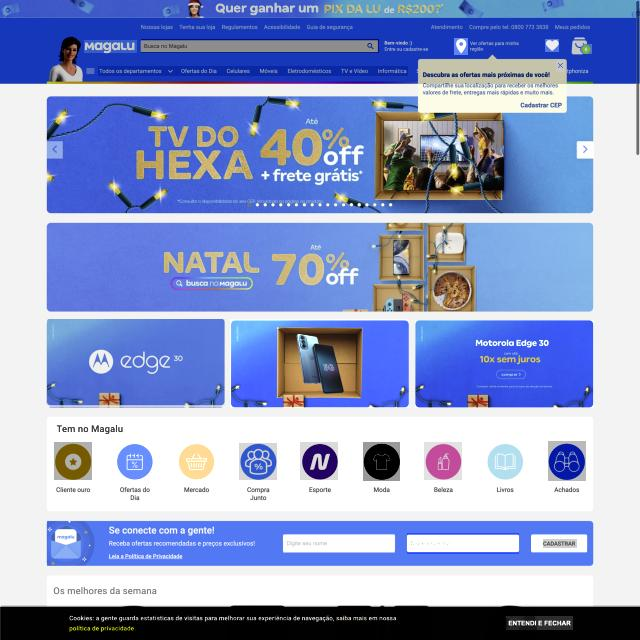CheckBox: (531, 534, 587, 553), (506, 616, 573, 630)
CheckedTextView: (141, 39, 379, 53), (407, 533, 519, 554), (283, 534, 395, 553)
ImageView: (47, 222, 595, 312), (0, 0, 637, 18)
RadioButton: (581, 44, 592, 54)
bag: (0, 0, 636, 84)
breadcrumbs: (52, 583, 158, 599), (55, 422, 124, 436)
carousel: (576, 142, 594, 158), (454, 38, 468, 55), (545, 39, 559, 52), (556, 60, 565, 72), (366, 42, 375, 50)
content: (548, 441, 586, 481), (54, 442, 92, 480), (116, 442, 154, 480), (300, 442, 338, 480), (424, 442, 462, 480), (486, 443, 524, 481), (363, 442, 400, 481), (178, 442, 215, 480), (239, 443, 277, 480)
copy: (230, 319, 409, 408), (415, 320, 594, 408), (47, 320, 225, 408)
data feed: (543, 539, 577, 548)
date picker: (84, 40, 137, 53)
decoration: (139, 23, 595, 31), (98, 66, 408, 76)
footer: (410, 538, 455, 548), (286, 540, 330, 549), (144, 43, 189, 50)
header: (1, 605, 640, 640)
